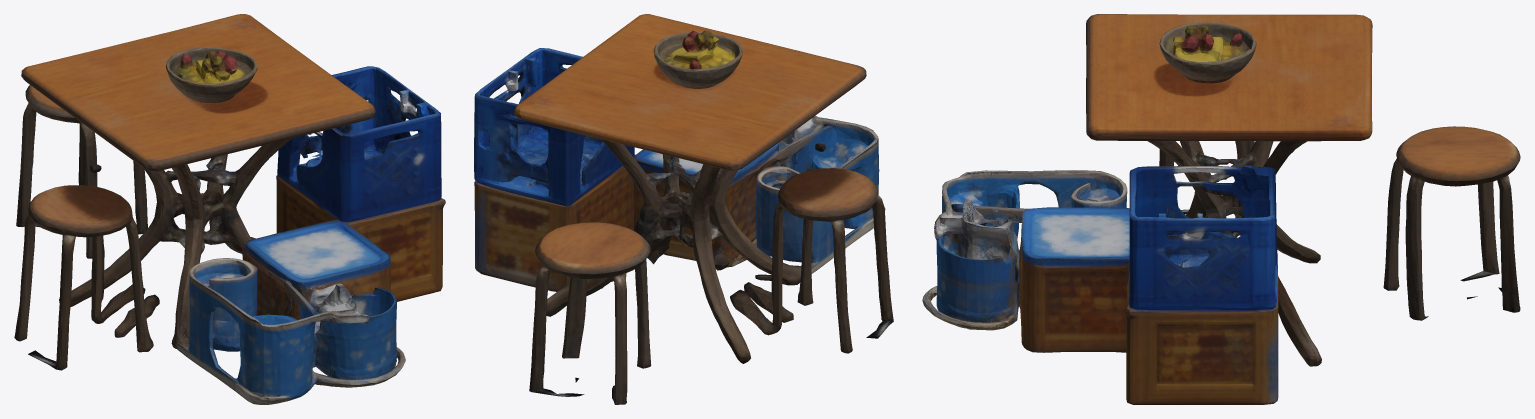
3 views of the same model, side by side, from view 1: azimuth 30°, elevation 25°; view 2: azimuth 150°, elevation 25°; view 3: azimuth 270°, elevation 25° (orthographic). The views are drawn at different scales.
Parts seen in each view (by area): view 1: world.007; view 2: world.007; view 3: world.007.
Part boxes in pixels (<box>): world.007: <box>14,14,445,404</box>; world.007: <box>474,14,893,404</box>; world.007: <box>922,14,1520,404</box>.
Size of the model in its own units: 78.15 by 54.07 by 99.99.
1 material, 1 textured.
